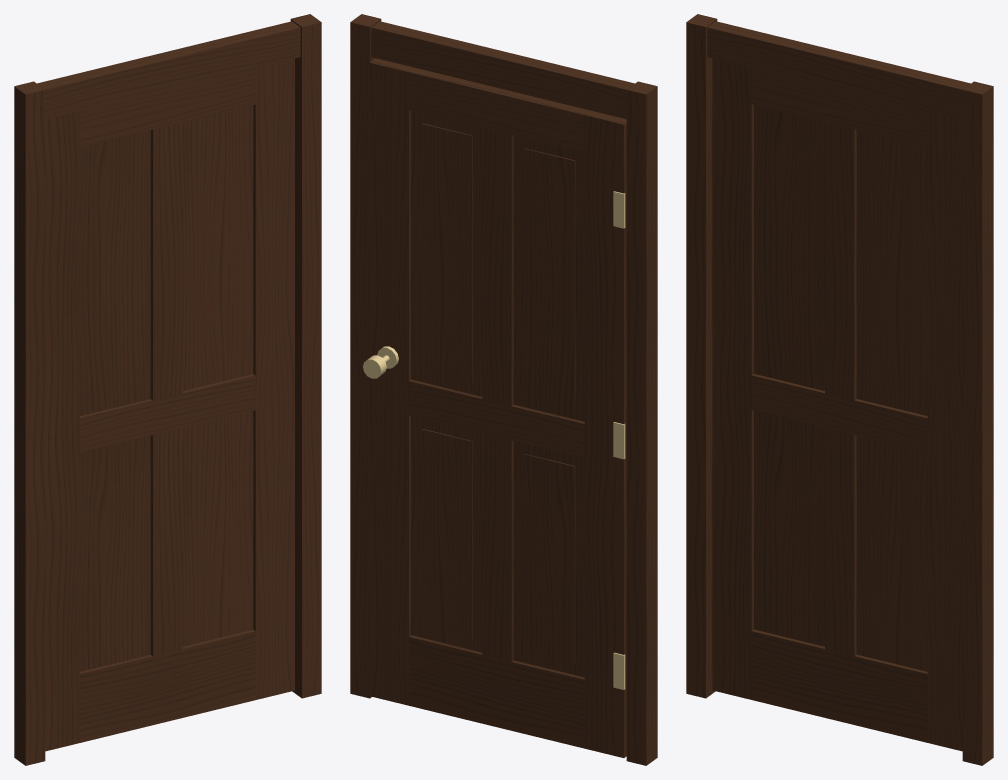
The model's file is X14_PART_Door_Wood_090.glb.
3 renders of one model, left to right at view 1: azimuth 30°, elevation 25°; view 2: azimuth 150°, elevation 25°; view 3: azimuth 330°, elevation 25°, orthographic.
Parts seen in each view (by area): view 1: X14_PART_Door_Wood_090_Leaf_LOD0, X14_PART_Door_Wood_090_LOD0; view 2: X14_PART_Door_Wood_090_Leaf_LOD0, X14_PART_Door_Wood_090_LOD0; view 3: X14_PART_Door_Wood_090_Leaf_LOD0, X14_PART_Door_Wood_090_LOD0.
Boxes of the visible parts, <box> form: X14_PART_Door_Wood_090_Leaf_LOD0: <box>45,58,294,751</box>; X14_PART_Door_Wood_090_LOD0: <box>14,14,321,765</box>; X14_PART_Door_Wood_090_Leaf_LOD0: <box>363,58,626,757</box>; X14_PART_Door_Wood_090_LOD0: <box>350,14,657,765</box>; X14_PART_Door_Wood_090_Leaf_LOD0: <box>712,58,962,751</box>; X14_PART_Door_Wood_090_LOD0: <box>686,14,993,765</box>.
Size of what is drawn, in the model's own units: 0.9 by 1.95 by 0.16.
2 materials, 1 textured.
